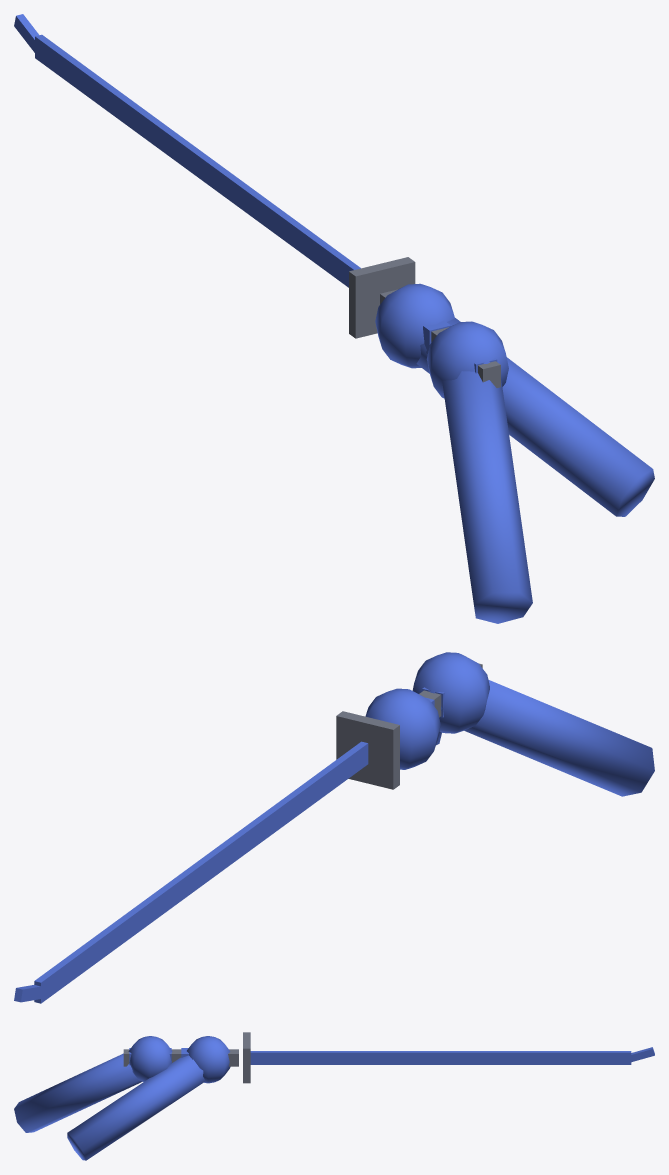
The model's file is katana.glb.
The picture shows the model from 3 angles, top to bottom: view 1: azimuth 30°, elevation 25°; view 2: azimuth 150°, elevation 25°; view 3: azimuth 270°, elevation 25°; orthographic projection. The views are drawn at different scales.
Visible parts, largest first — view 1: hand_L, hand_R_arm, blade, hand_R_fist, hand_L_fist, tsuba; view 2: hand_L, blade, hand_L_fist, hand_R_fist, tsuba; view 3: blade, hand_R_arm, hand_L, hand_L_fist, hand_R_fist, tsuka, tsuba, blade_tip.
Boxes of the visible parts, bbox=[...] form: hand_L: bbox=[442, 371, 532, 623]; hand_R_arm: bbox=[416, 318, 654, 516]; blade: bbox=[35, 34, 360, 287]; hand_R_fist: bbox=[375, 283, 454, 368]; hand_L_fist: bbox=[426, 321, 508, 398]; tsuba: bbox=[349, 257, 415, 338]; hand_L: bbox=[464, 679, 654, 796]; blade: bbox=[34, 741, 368, 1003]; hand_L_fist: bbox=[412, 652, 489, 733]; hand_R_fist: bbox=[365, 688, 440, 769]; tsuba: bbox=[336, 711, 399, 789]; blade: bbox=[250, 1051, 631, 1064]; hand_R_arm: bbox=[67, 1055, 205, 1160]; hand_L: bbox=[14, 1053, 142, 1132]; hand_L_fist: bbox=[128, 1036, 172, 1081]; hand_R_fist: bbox=[187, 1036, 230, 1083]; tsuka: bbox=[123, 1049, 238, 1066]; tsuba: bbox=[243, 1032, 250, 1083]; blade_tip: bbox=[623, 1047, 654, 1063].
Bounding box in the file's own units: 0.386 × 0.3285 × 1.67.
